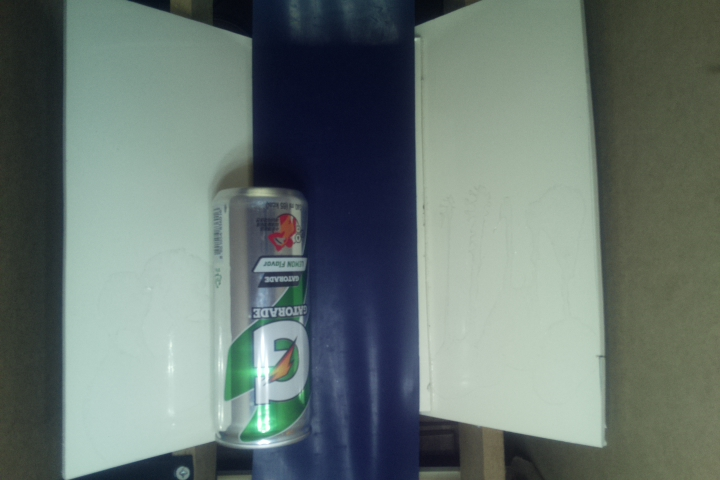can: (205, 185, 313, 449)
